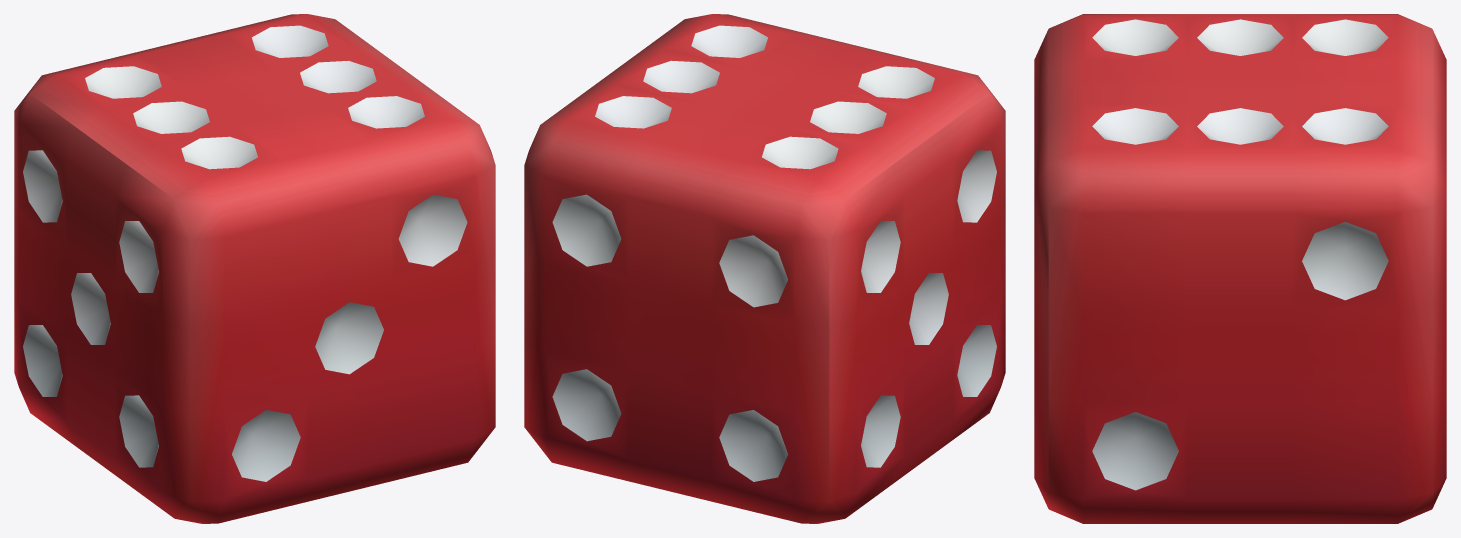
File: board.d6_a_red.glb
3 views of the same model, side by side, from view 1: azimuth 30°, elevation 25°; view 2: azimuth 150°, elevation 25°; view 3: azimuth 270°, elevation 25° (orthographic). The views are drawn at different scales.
Parts seen in each view (by area): view 1: D6_A_red; view 2: D6_A_red; view 3: D6_A_red.
Boxes of the visible parts, x1,y1,x2,y2 form: D6_A_red: (14,14,495,523); D6_A_red: (524,14,1005,523); D6_A_red: (1034,14,1446,523).
Size of the model in its own units: 0.02 by 0.02 by 0.02.
Materials: 1 (1 with a texture image).
